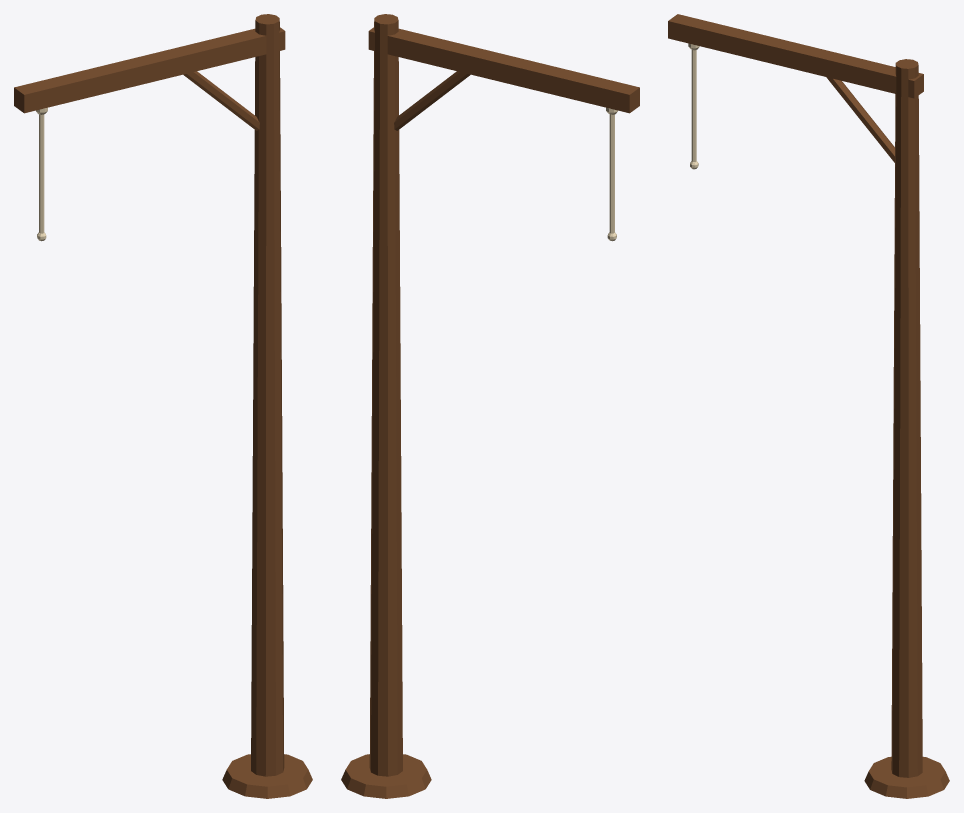
File: pinata_hanger.glb
The picture shows the model from 3 angles, left to right: view 1: azimuth 30°, elevation 25°; view 2: azimuth 150°, elevation 25°; view 3: azimuth 330°, elevation 25°; orthographic projection. The views are drawn at different scales.
Parts seen in each view (by area): view 1: pinata_hanger; view 2: pinata_hanger; view 3: pinata_hanger.
Part boxes in pixels (<box>): pinata_hanger: <box>14,14,312,798</box>; pinata_hanger: <box>341,14,639,798</box>; pinata_hanger: <box>668,14,949,798</box>.
Bounding box in the file's own units: 1.47 × 3.7 × 0.4.
